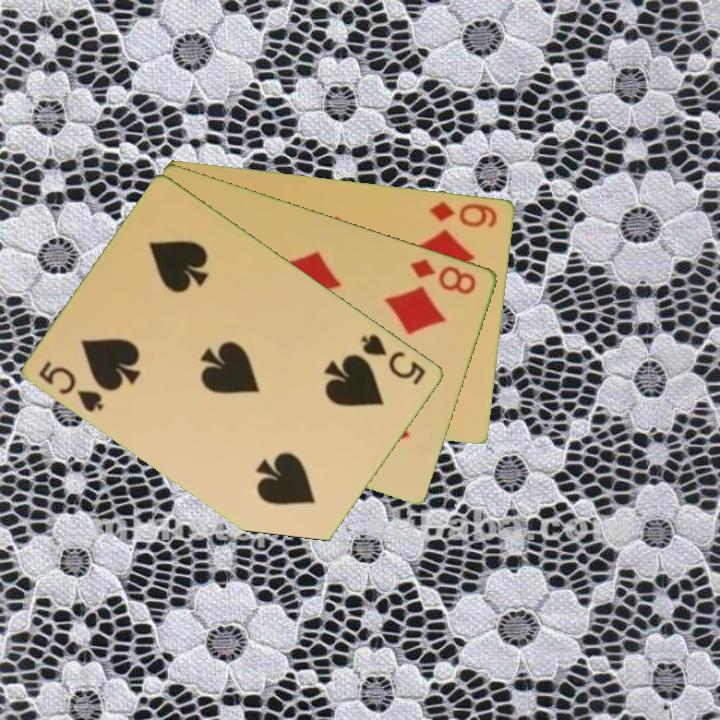5s: (35, 357, 108, 415), (358, 330, 430, 388)
6d: (426, 197, 501, 230)
8d: (407, 255, 480, 297)
